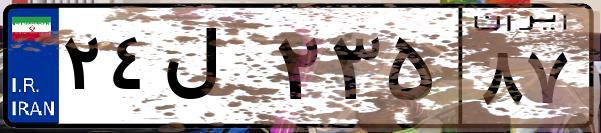2: (270, 28, 330, 110), (57, 26, 110, 100)
3: (330, 28, 385, 110)
4: (110, 28, 158, 98)
5: (385, 28, 445, 110)
7: (525, 38, 570, 115)
8: (475, 38, 525, 113)
ل: (158, 20, 270, 120)
